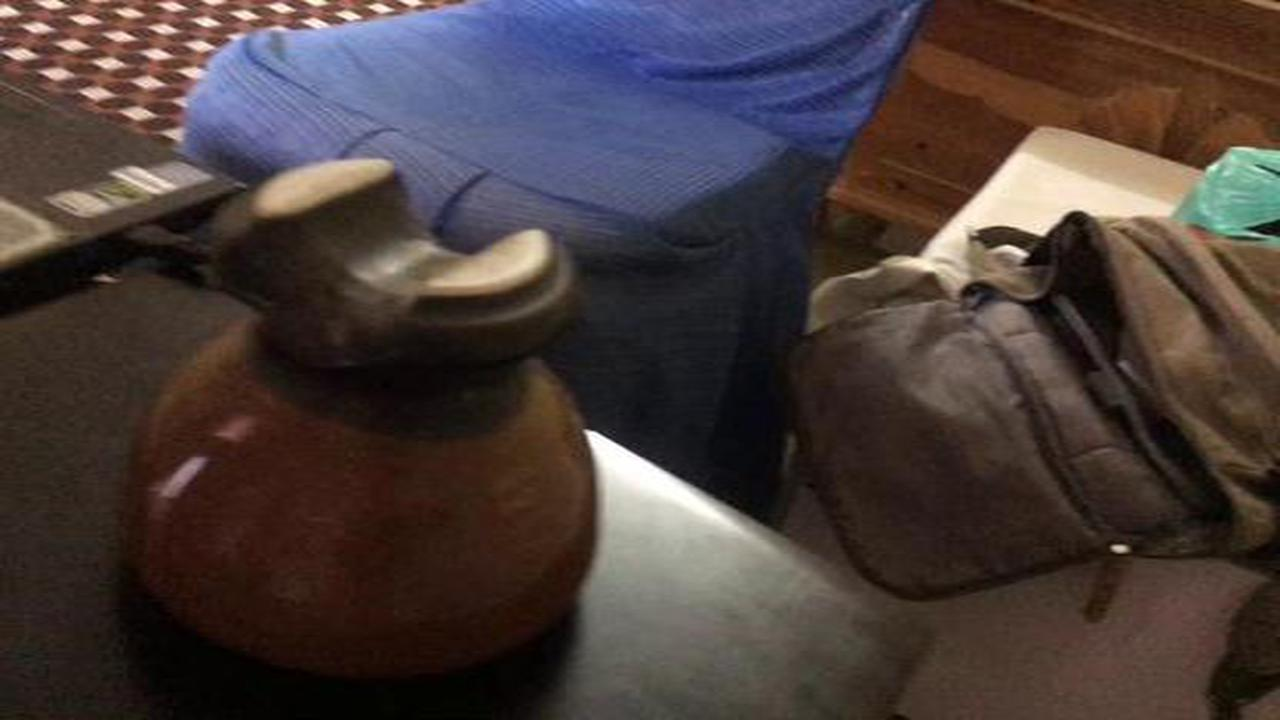insulator_pin: (96, 141, 622, 693)
